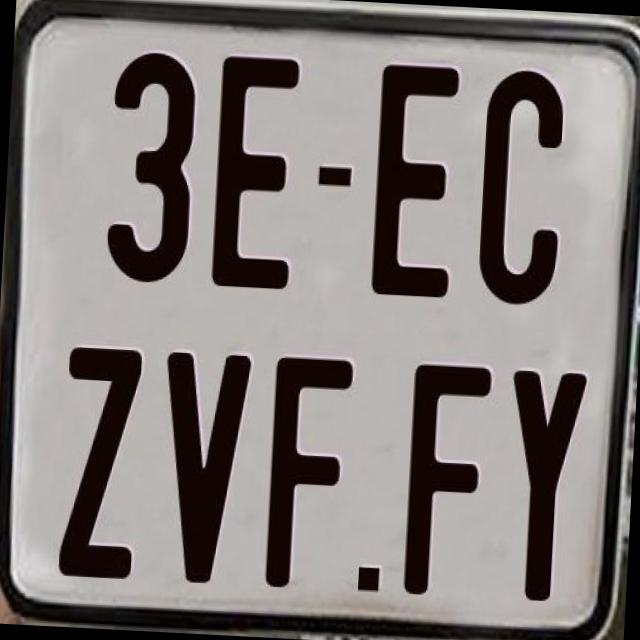3: (104, 51, 198, 286)
C: (476, 67, 570, 310)
E: (210, 50, 308, 293), (368, 64, 464, 303)
F: (398, 362, 496, 601), (262, 351, 360, 589)
V: (156, 349, 252, 588)
Y: (501, 367, 591, 606)
Z: (58, 346, 145, 590)
